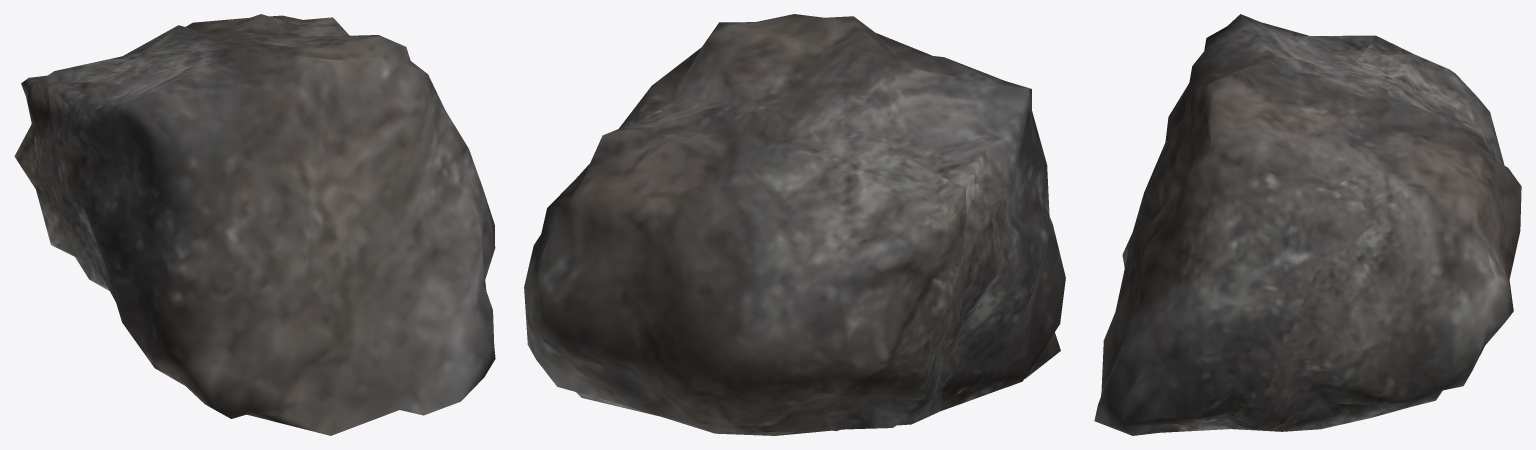
File: N_Rock_13.fbx
3 views of the same model, side by side, from view 1: azimuth 30°, elevation 25°; view 2: azimuth 150°, elevation 25°; view 3: azimuth 270°, elevation 25° (orthographic). The views are drawn at different scales.
Parts seen in each view (by area): view 1: Large_12; view 2: Large_12; view 3: Large_12.
Boxes of the visible parts, x1,y1,x2,y2 form: Large_12: (14,14,495,435); Large_12: (524,14,1065,435); Large_12: (1094,14,1521,435).
Size of the model in its own units: 249 by 216 by 266.
